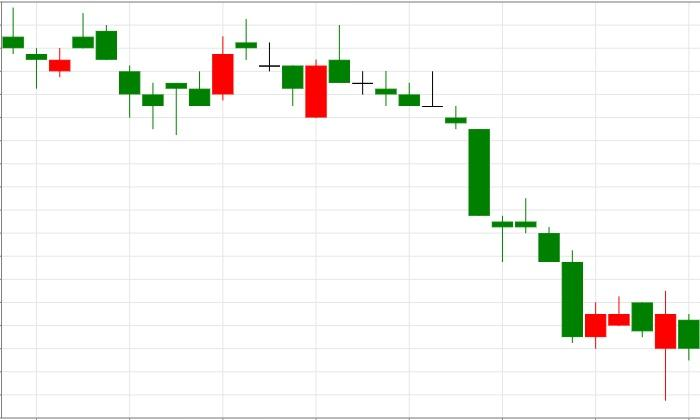bullish_engulfing_rise: (235, 18, 328, 119)
